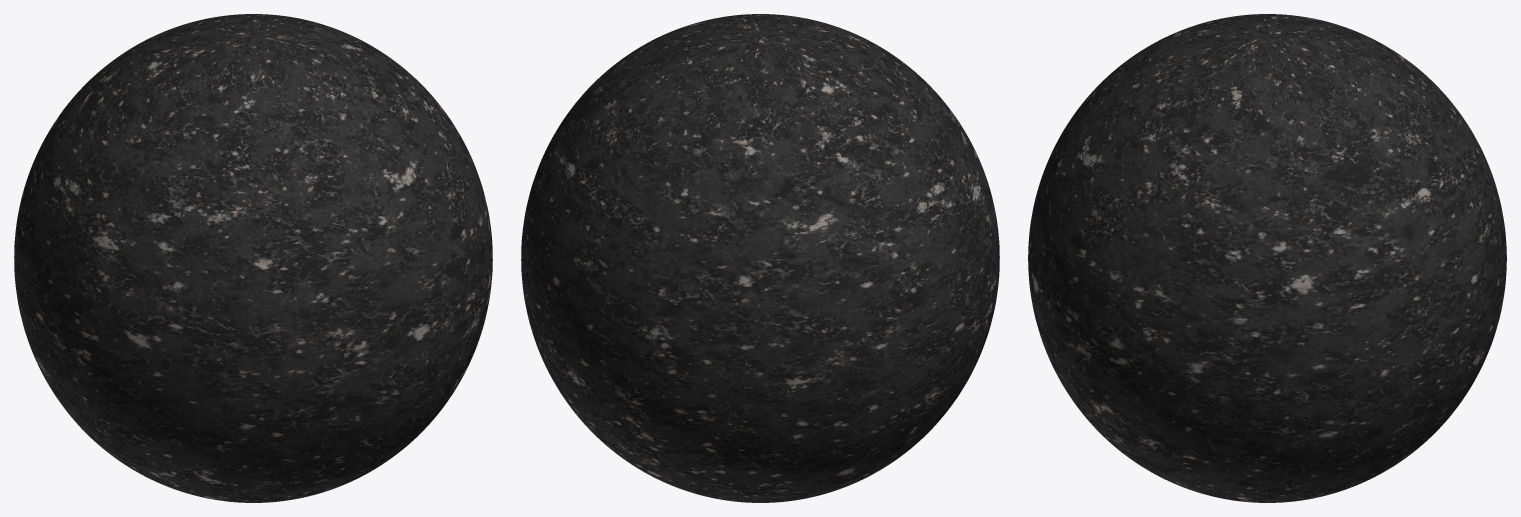
File: ballBlack.fbx
3 renders of one model, left to right at view 1: azimuth 30°, elevation 25°; view 2: azimuth 150°, elevation 25°; view 3: azimuth 270°, elevation 25°, orthographic.
Visible parts, largest first — view 1: Sphere.004; view 2: Sphere.004; view 3: Sphere.004.
Part boxes in pixels (<box>): Sphere.004: <box>14,14,492,502</box>; Sphere.004: <box>521,14,999,502</box>; Sphere.004: <box>1028,14,1506,502</box>.
Bounding box in the file's own units: 0.2905 × 0.2905 × 0.2987.
Materials: 1 (1 with a texture image).
